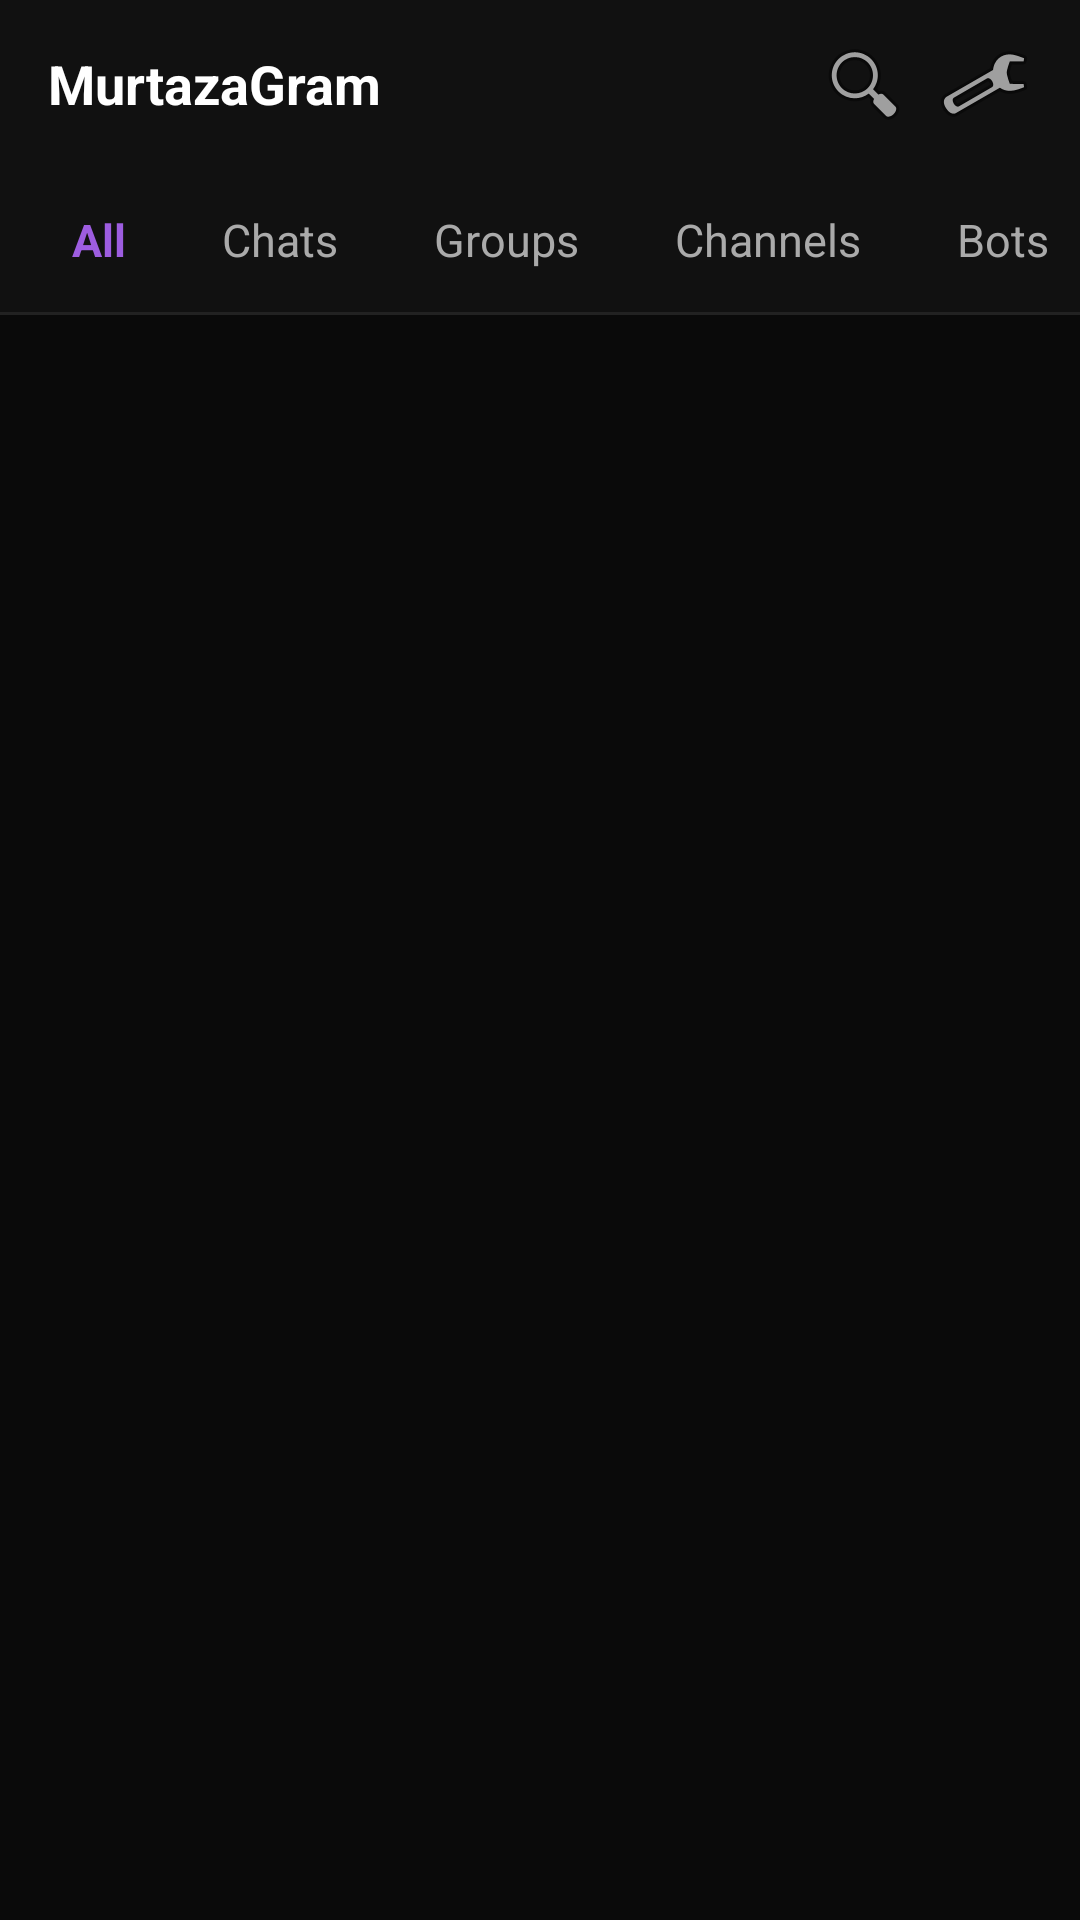

Screen size 1080px×1920px. Icon name, then its center in pixels as (x=x, y=y):
preferences: (x=984, y=84)
search: (x=863, y=84)
